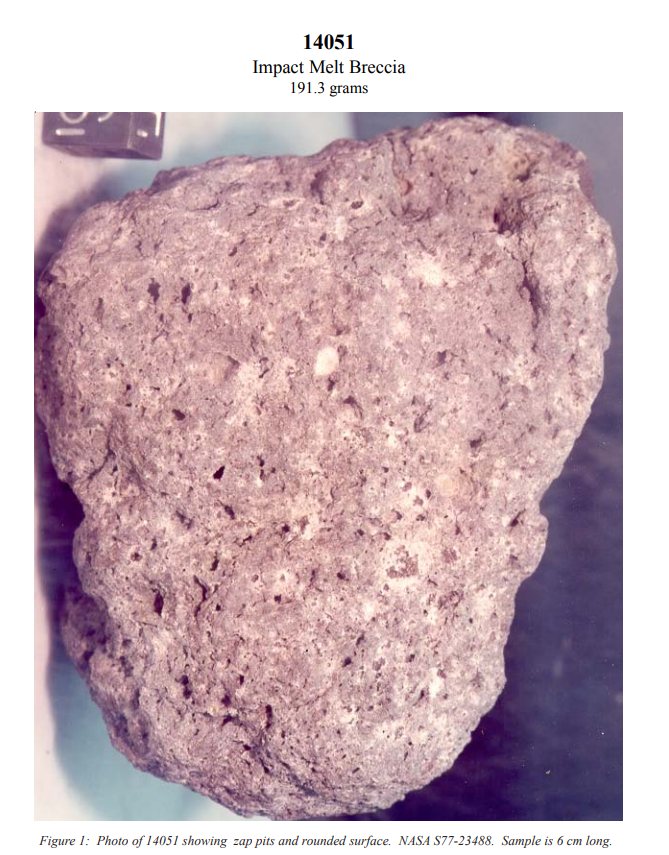Breccia: (52, 128, 605, 814)
